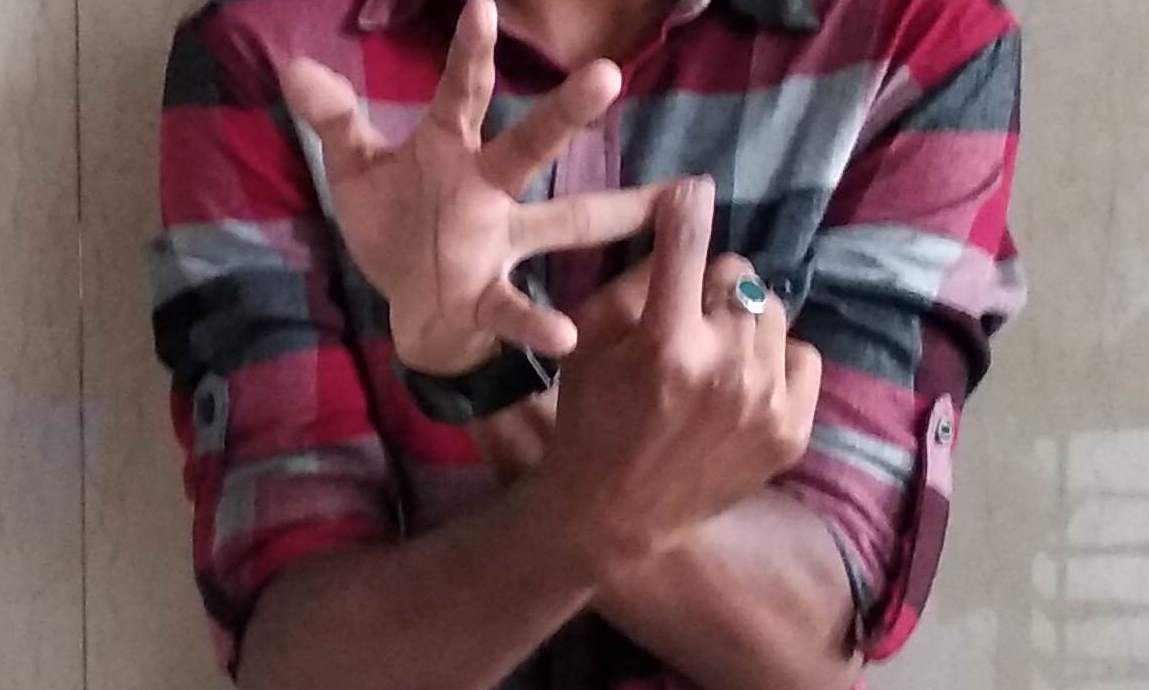e: (365, 17, 813, 431)
